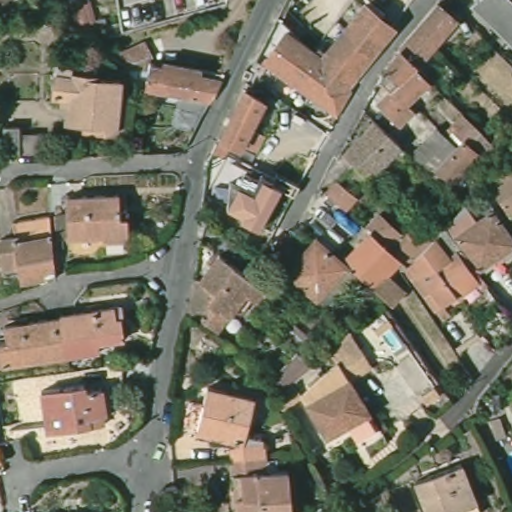pool: (329, 209, 361, 236), (379, 327, 406, 352)
